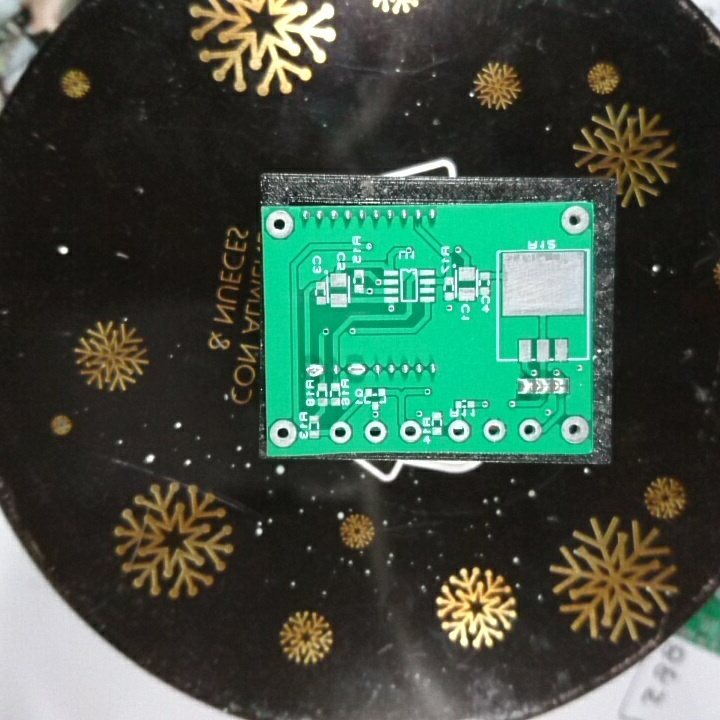F: (262, 209, 297, 242), (559, 204, 591, 236), (559, 414, 591, 446), (268, 418, 297, 449), (445, 416, 471, 445), (481, 418, 508, 444), (362, 419, 388, 445), (517, 419, 542, 443), (328, 420, 353, 444), (399, 418, 422, 443)
P: (343, 359, 368, 381), (302, 361, 325, 380)
